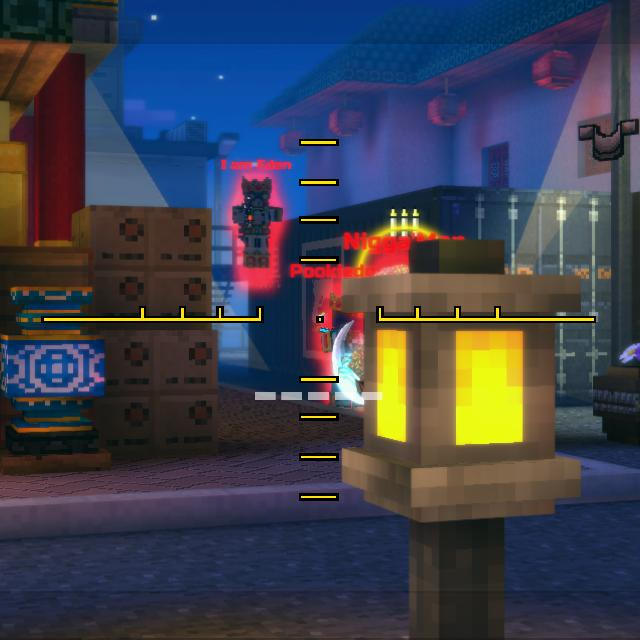Enemy: (230, 179, 281, 269), (323, 292, 363, 404)
